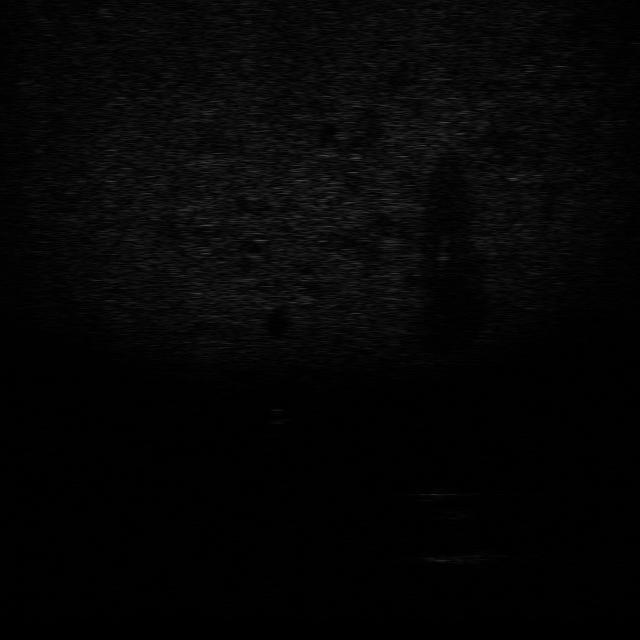ball: (255, 405, 290, 426)
metal bucket: (415, 548, 503, 570)
tyre: (416, 489, 479, 519)
